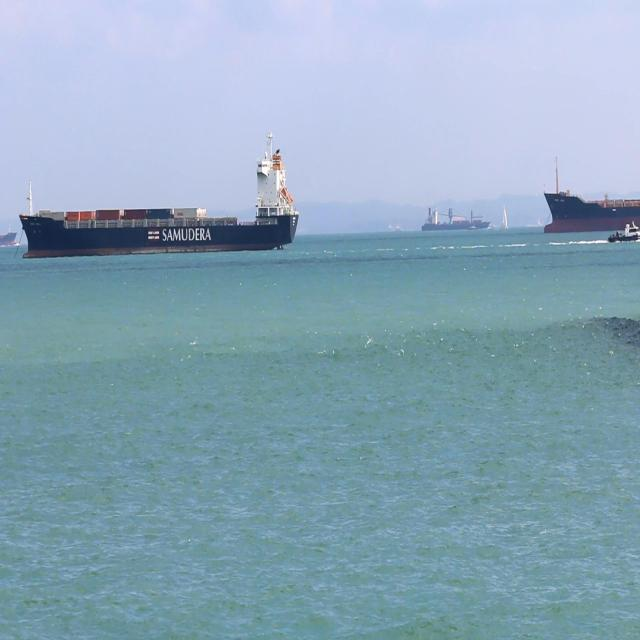boat: (501, 205, 508, 229)
ship: (19, 130, 299, 259), (543, 155, 639, 234), (420, 205, 491, 232), (608, 220, 640, 243), (1, 229, 18, 249), (467, 223, 478, 231)
